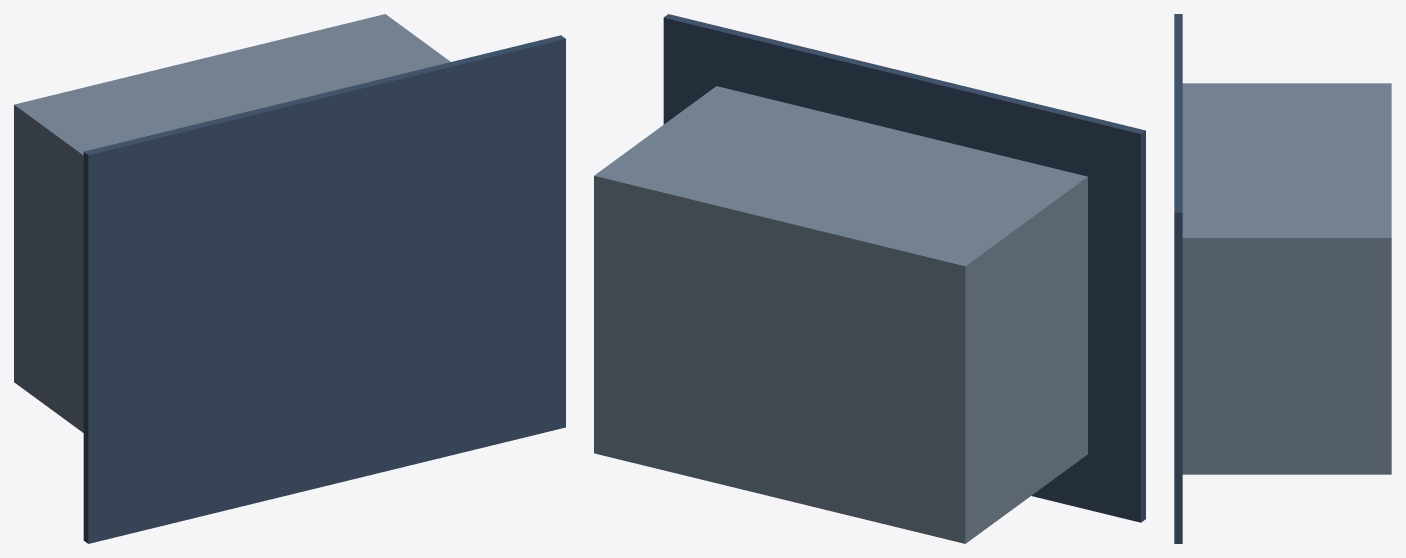
The model's file is factory.glb.
3 renders of one model, left to right at view 1: azimuth 30°, elevation 25°; view 2: azimuth 150°, elevation 25°; view 3: azimuth 270°, elevation 25°, orthographic. The views are drawn at different scales.
Parts seen in each view (by area): view 1: floor, building; view 2: building, floor; view 3: building, floor.
Part boxes in pixels (box(x1,y1,x2,y2)): floor: box(83, 35, 565, 543); building: box(14, 14, 450, 432); building: box(594, 86, 1087, 543); floor: box(663, 14, 1145, 522); building: box(1182, 83, 1391, 474); floor: box(1174, 14, 1182, 543).
Bounding box in the file's own units: 9 × 7 × 4.16.
